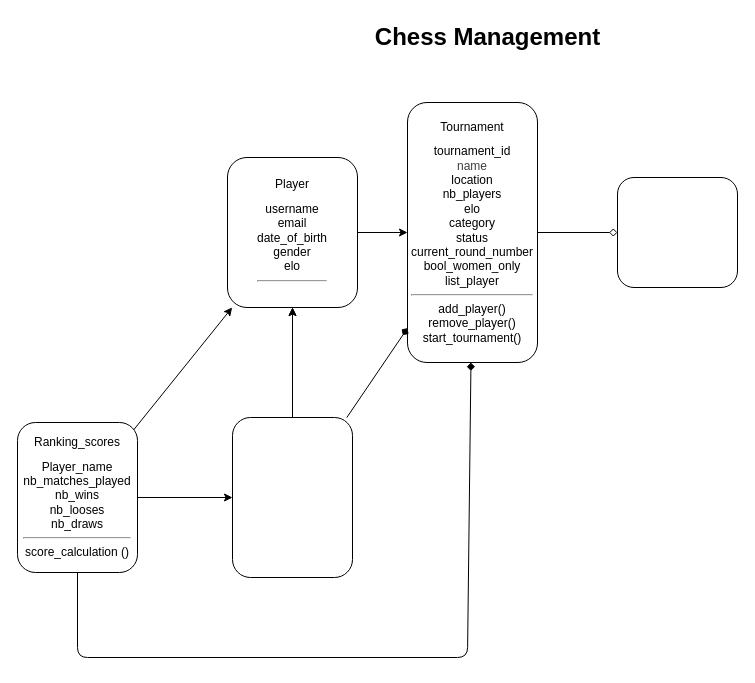
Image size: 755x683. Some labels were removed from this diagram. The centre of each missing label's shape, as x and y in pixels:
"Match tournament_id white_player black_player round_number result next_round()" belongs at pixel 292 497.
"Tournament_List Tournament display()" belongs at pixel 677 232.
